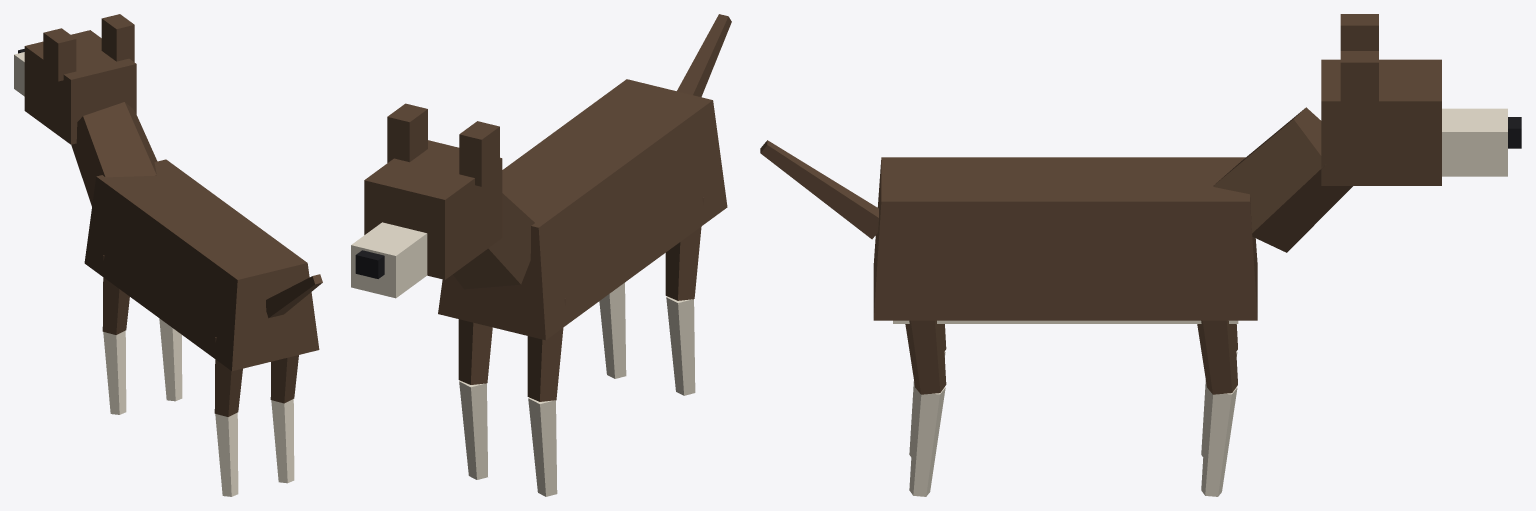
The model's file is ani_dog.glb.
3 renders of one model, left to right at view 1: azimuth 30°, elevation 25°; view 2: azimuth 150°, elevation 25°; view 3: azimuth 270°, elevation 25°, orthographic. The views are drawn at different scales.
Visible parts, largest first — view 1: ani_dog, ani_dog_head, ani_dog_leg_rl, ani_dog_leg_fl, ani_dog_leg_rr, ani_dog_leg_fr; view 2: ani_dog, ani_dog_head, ani_dog_leg_fl, ani_dog_leg_fr, ani_dog_leg_rl, ani_dog_leg_rr; view 3: ani_dog, ani_dog_head, ani_dog_leg_rr, ani_dog_leg_fr.
Part boxes in pixels (x1=…): ani_dog: x1=84, y1=159, x2=322, y2=371; ani_dog_head: x1=14, y1=14, x2=157, y2=206; ani_dog_leg_rl: x1=214, y1=337, x2=242, y2=496; ani_dog_leg_fl: x1=102, y1=255, x2=129, y2=414; ani_dog_leg_rr: x1=270, y1=355, x2=298, y2=483; ani_dog_leg_fr: x1=159, y1=318, x2=182, y2=401; ani_dog: x1=438, y1=14, x2=731, y2=340; ani_dog_head: x1=351, y1=103, x2=534, y2=298; ani_dog_leg_fl: x1=527, y1=298, x2=565, y2=496; ani_dog_leg_fr: x1=458, y1=319, x2=492, y2=479; ani_dog_leg_rl: x1=665, y1=197, x2=704, y2=395; ani_dog_leg_rr: x1=599, y1=282, x2=626, y2=378; ani_dog: x1=760, y1=140, x2=1257, y2=323; ani_dog_head: x1=1213, y1=14, x2=1521, y2=252; ani_dog_leg_rr: x1=905, y1=320, x2=946, y2=496; ani_dog_leg_fr: x1=1197, y1=320, x2=1237, y2=496.
Size of the model in its own units: 0.24 by 0.8798 by 1.39.
